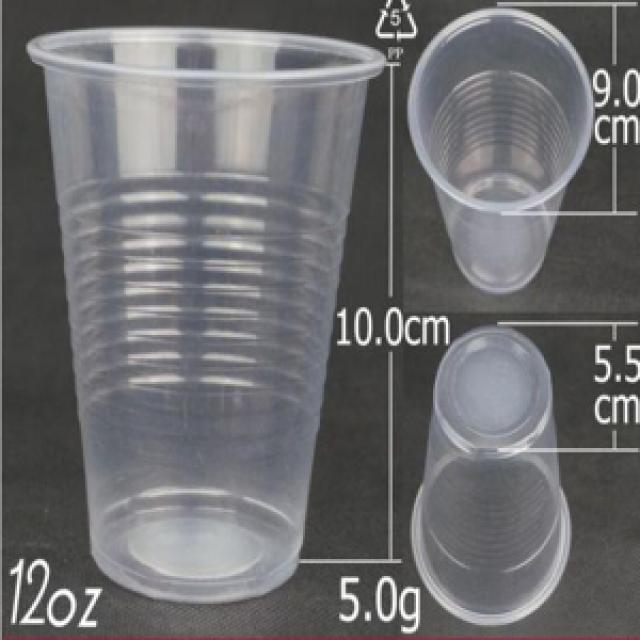plastic cup: (25, 24, 392, 610), (406, 8, 600, 298), (403, 322, 576, 629)
